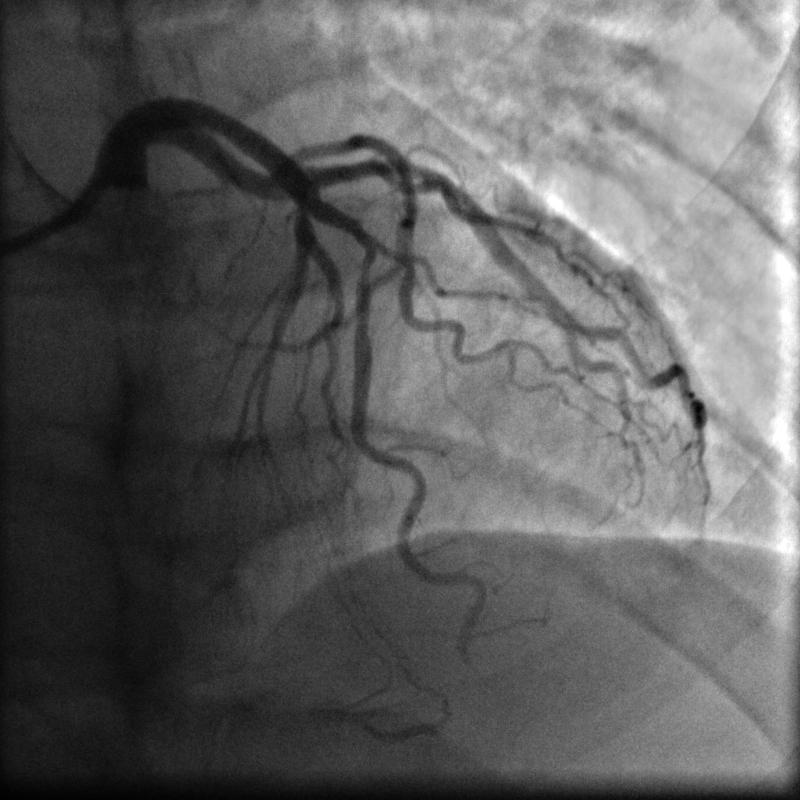Stenosis: (351, 233, 378, 294)
